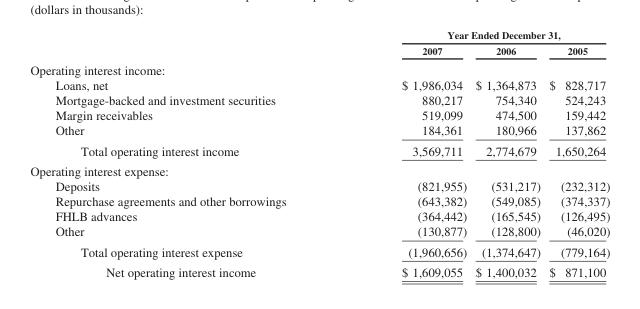table: (29, 28, 609, 278)
table column: (29, 28, 343, 278), (343, 28, 470, 278), (470, 28, 544, 278), (544, 28, 609, 278)
table column header: (29, 28, 609, 59)
table projected row header: (29, 160, 609, 178), (29, 59, 609, 76)
table row: (29, 140, 609, 160), (29, 241, 609, 261), (29, 122, 609, 140), (29, 160, 609, 178), (29, 223, 609, 241), (29, 42, 609, 59), (29, 59, 609, 76), (29, 261, 609, 278), (29, 76, 609, 92), (29, 92, 609, 107), (29, 107, 609, 122), (29, 178, 609, 193), (29, 193, 609, 208), (29, 208, 609, 223), (29, 28, 609, 42)
table spanning cell: (343, 28, 609, 42)
